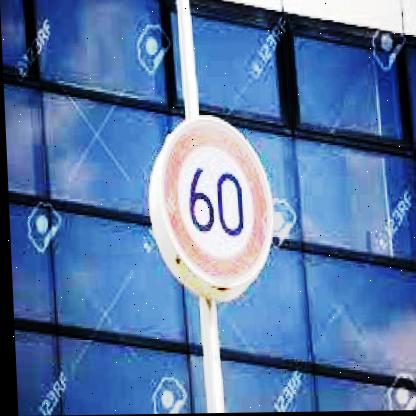Speed Limit -60-: (152, 115, 275, 288)
